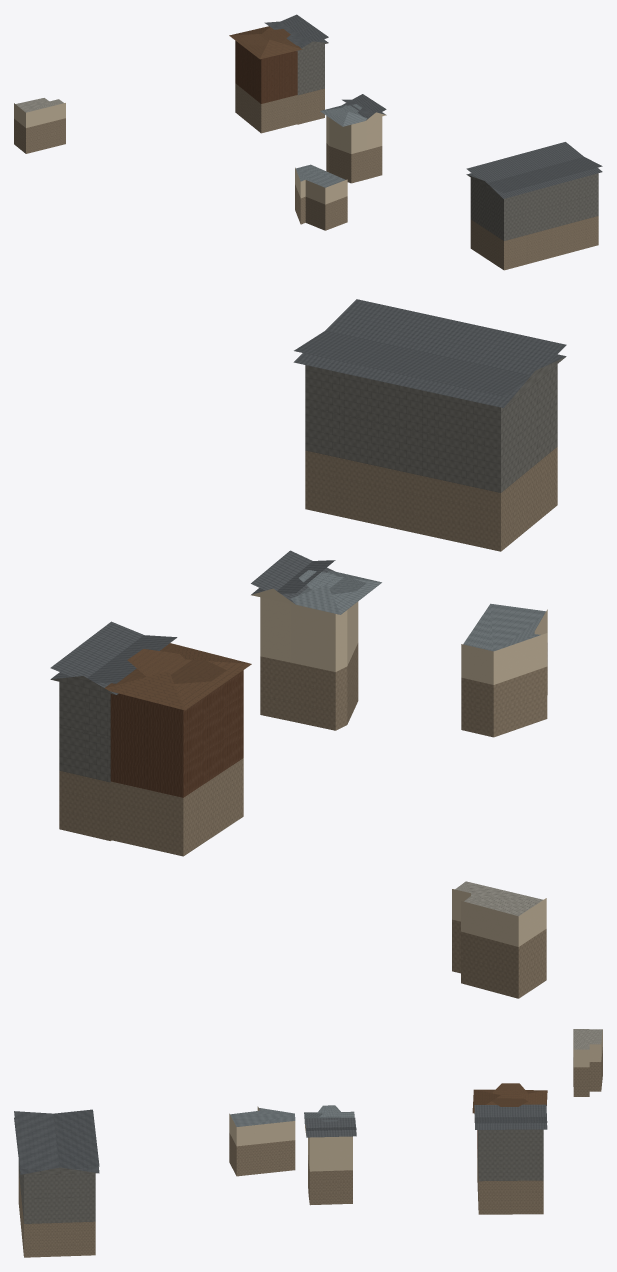
Rendered from bld_c33_-39_445.gltf.
The picture shows the model from 3 angles, top to bottom: view 1: azimuth 30°, elevation 25°; view 2: azimuth 150°, elevation 25°; view 3: azimuth 270°, elevation 25°; orthographic projection. The views are drawn at different scales.
Parts seen in each view (by area): view 1: bld_c33_-39_445; view 2: bld_c33_-39_445; view 3: bld_c33_-39_445.
Part boxes in pixels (left/top/right/bottom): bld_c33_-39_445: left=14, top=14, right=602, bottom=270; bld_c33_-39_445: left=50, top=299, right=566, bottom=998; bld_c33_-39_445: left=14, top=1029, right=602, bottom=1257.
Bounding box in the file's own units: 61.16 × 15.5 × 80.98.
10 materials, 10 textured.
